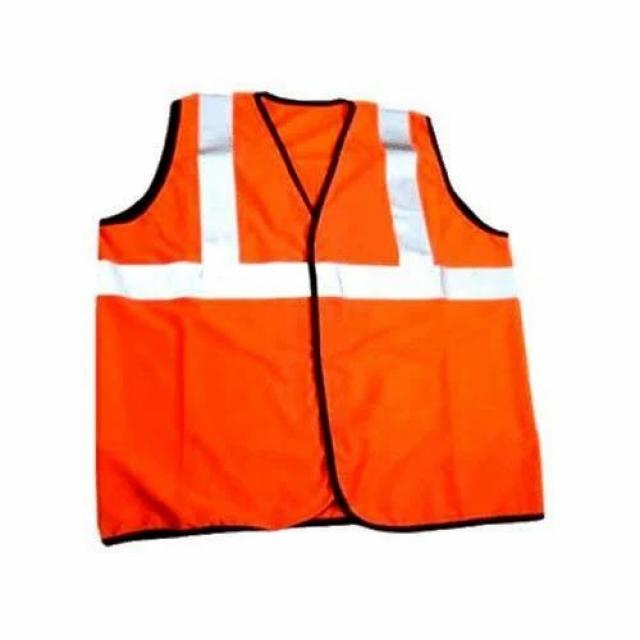Reflective-Jacket: (29, 67, 580, 554)
